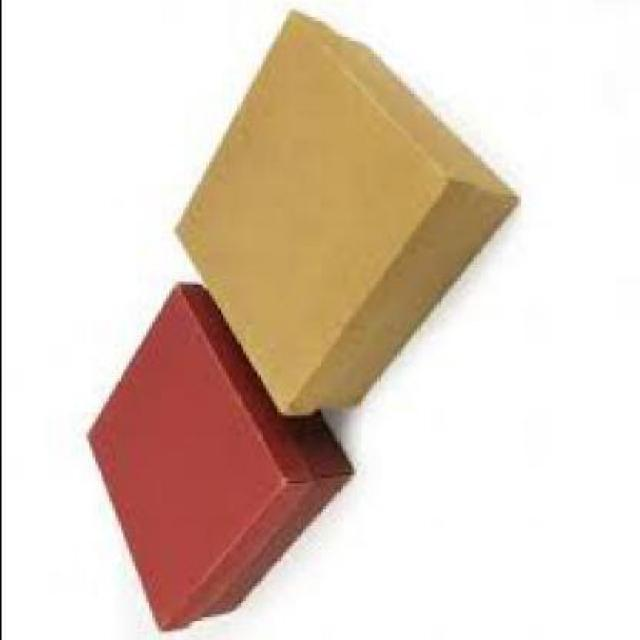box: (171, 16, 512, 422), (83, 285, 354, 636)
